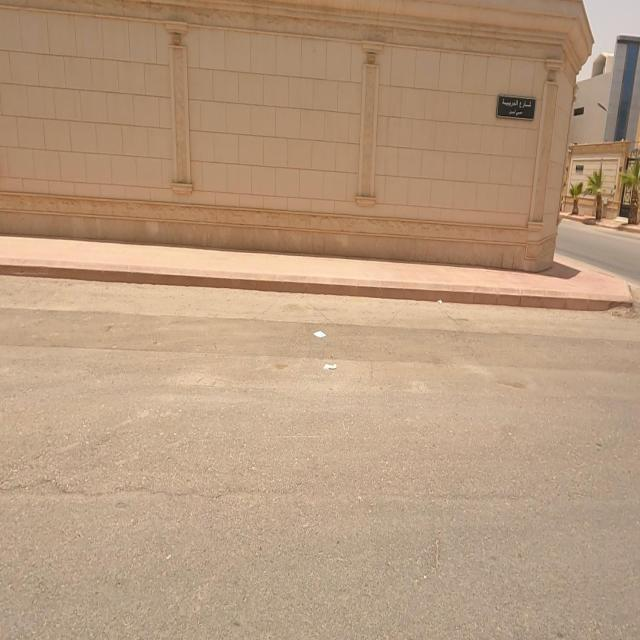debris: (288, 295, 354, 370), (310, 336, 348, 394)
